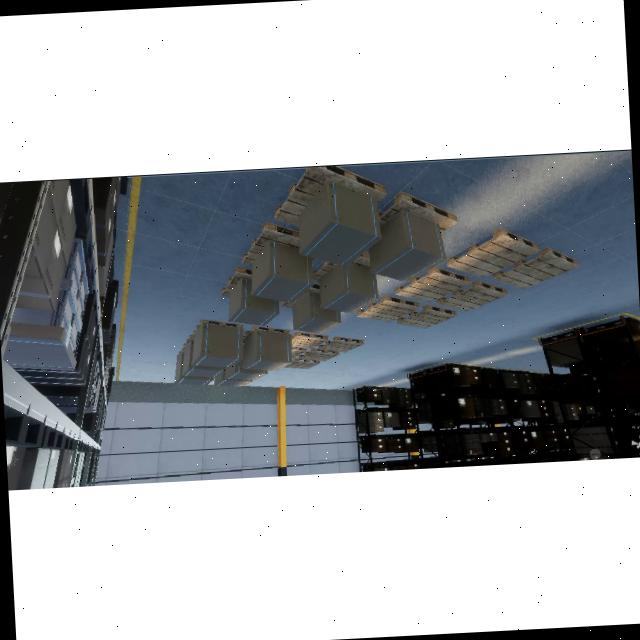wooden_pallet: (274, 166, 387, 229), (446, 230, 540, 279), (493, 247, 579, 290), (378, 193, 458, 236), (396, 266, 471, 303), (242, 222, 300, 266), (436, 281, 508, 312), (357, 295, 419, 322), (396, 305, 457, 330), (220, 268, 253, 299), (192, 320, 244, 336), (243, 325, 289, 341), (319, 337, 364, 352), (291, 332, 328, 349), (299, 348, 339, 362), (285, 358, 320, 369), (292, 347, 307, 359)
